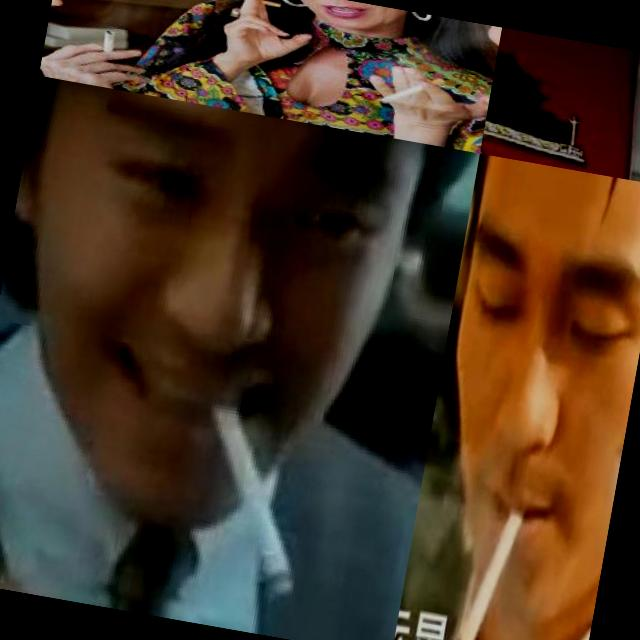cigarette: (174, 396, 326, 608), (479, 27, 640, 185), (453, 499, 524, 640), (378, 67, 448, 113), (203, 0, 283, 11), (99, 30, 118, 56)
